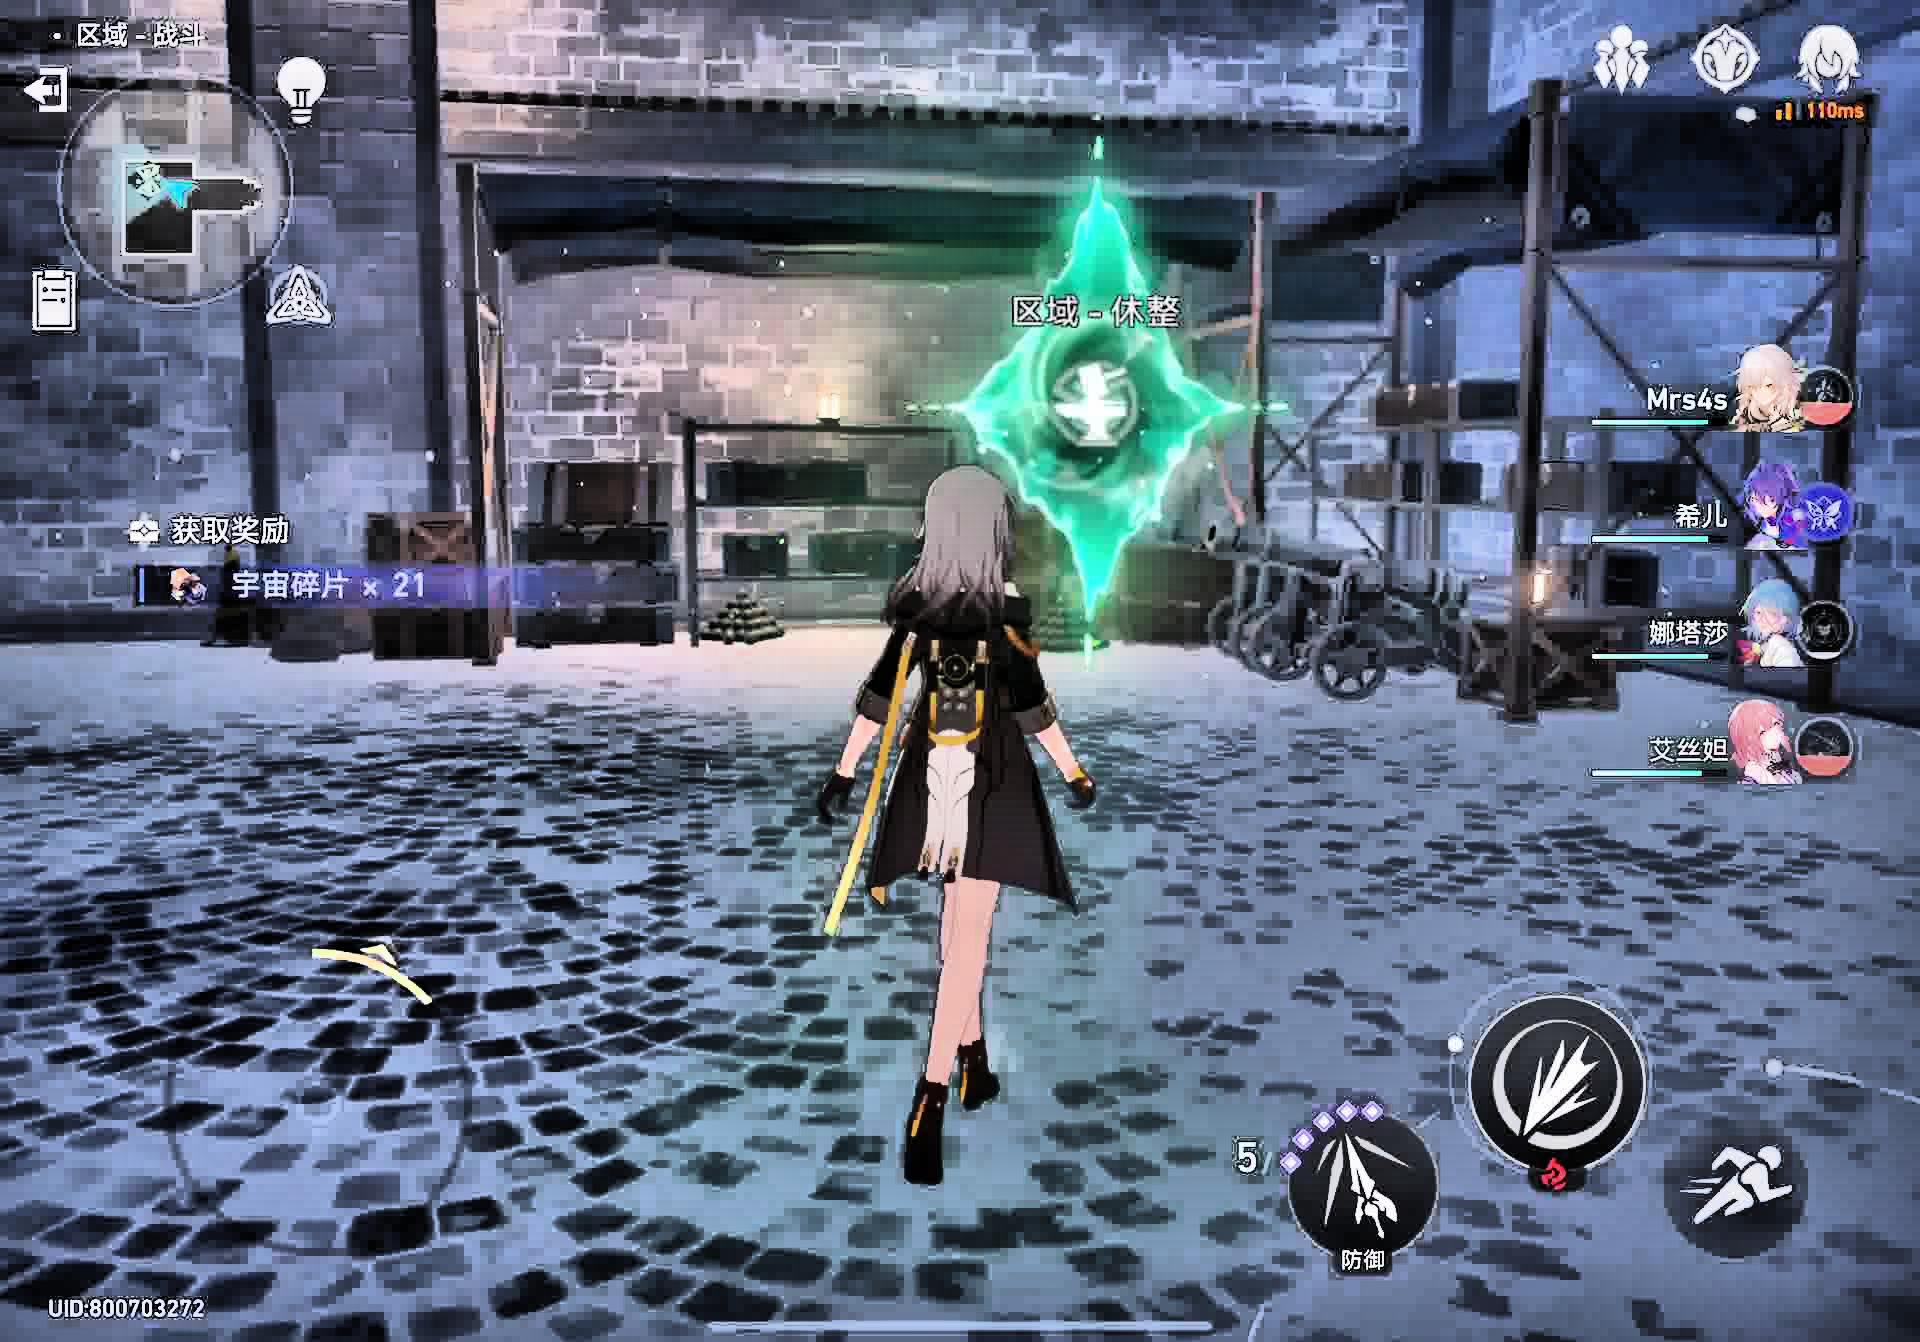SafeDoor: (922, 206, 1240, 624)
Self: (829, 465, 1091, 1176)
